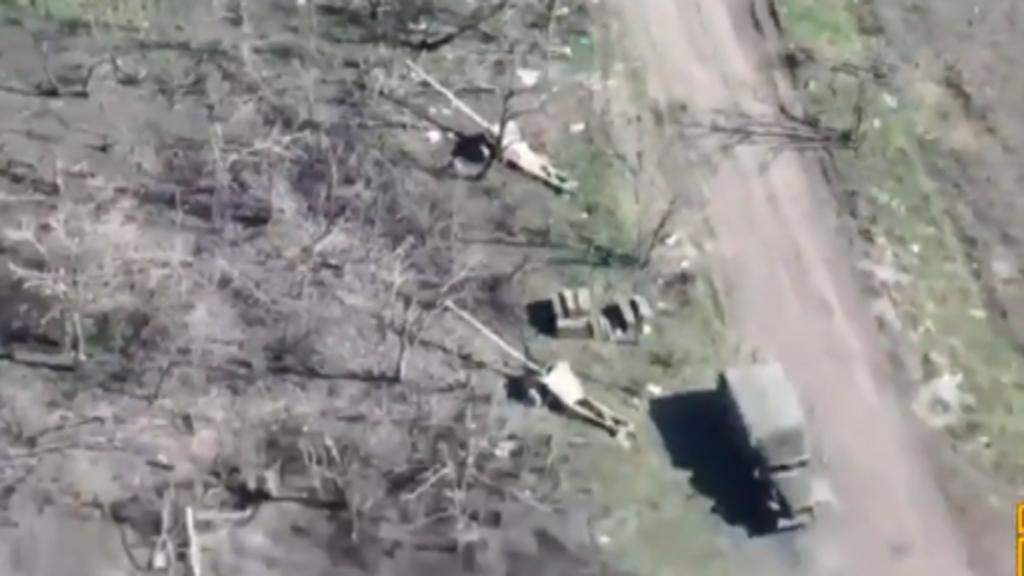ART: (442, 296, 630, 442), (402, 51, 578, 198)
TRUCK: (718, 356, 834, 530)
